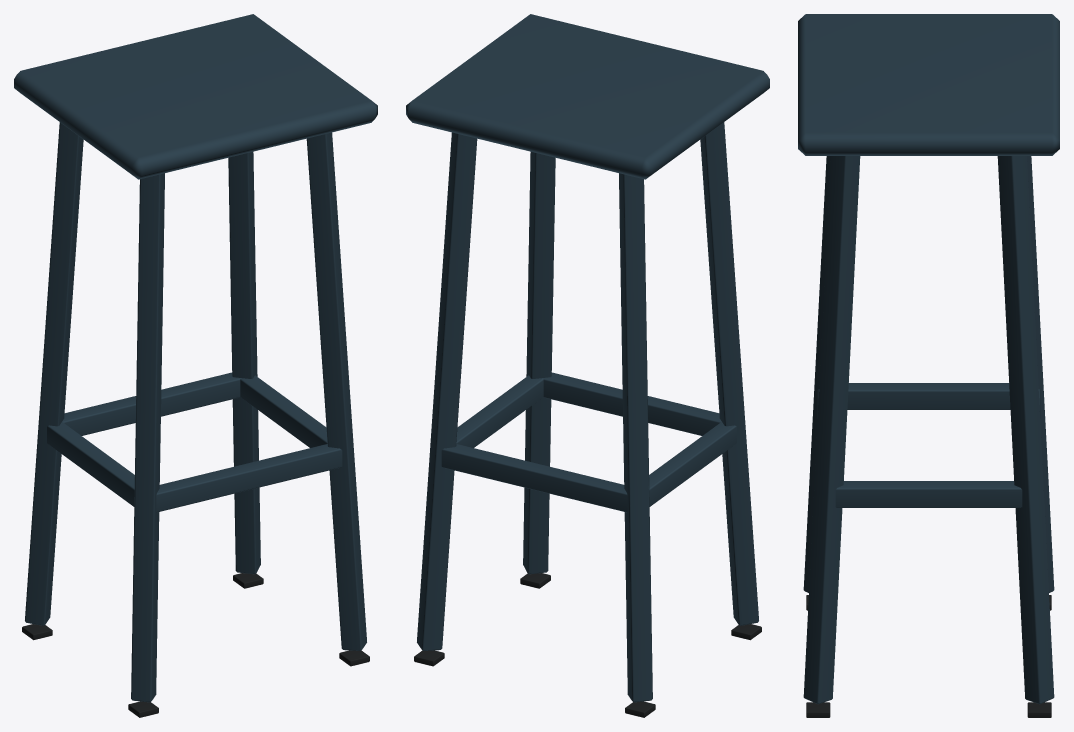
The picture shows the model from 3 angles, left to right: view 1: azimuth 30°, elevation 25°; view 2: azimuth 150°, elevation 25°; view 3: azimuth 270°, elevation 25°; orthographic projection. The views are drawn at different scales.
Visible parts, largest first — view 1: Narrow rectangular top, Square stool glide; view 2: Narrow rectangular top, Square stool glide; view 3: Narrow rectangular top, Square stool glide.
Boxes of the visible parts, box(x1,y1,x2,y2) form: Narrow rectangular top: box(14, 14, 377, 702); Square stool glide: box(22, 573, 369, 717); Narrow rectangular top: box(406, 14, 769, 702); Square stool glide: box(414, 573, 761, 717); Narrow rectangular top: box(798, 14, 1059, 704); Square stool glide: box(806, 595, 1051, 717).
Bounding box in the file's own units: 0.345 × 0.753 × 0.305.
